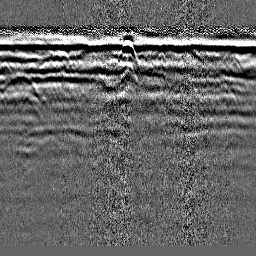cavity: (113, 37, 141, 67)
